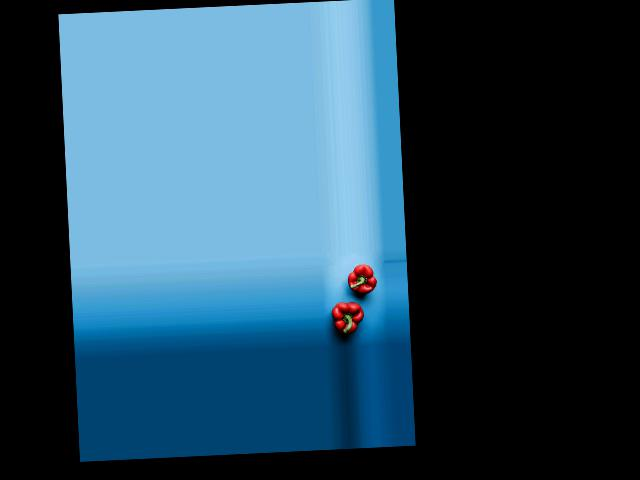bell_pepper: (331, 294, 368, 338)
